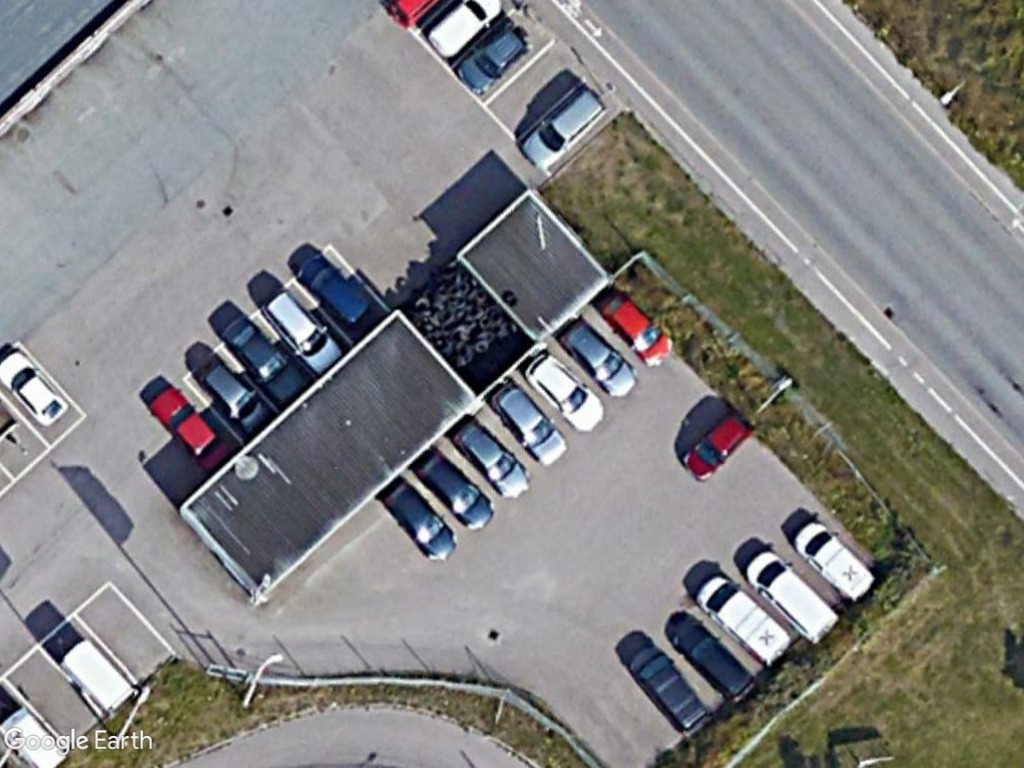car: (145, 382, 234, 477), (222, 318, 313, 409), (413, 443, 500, 535), (488, 378, 572, 473), (291, 250, 383, 336), (519, 83, 606, 172), (523, 347, 608, 438), (260, 288, 344, 375), (451, 416, 535, 501), (384, 479, 462, 566), (596, 289, 677, 370), (194, 357, 277, 436), (563, 317, 642, 400), (681, 408, 758, 484), (452, 23, 529, 98), (0, 348, 73, 427)
van: (745, 547, 845, 650), (691, 571, 791, 669), (669, 615, 760, 703), (794, 518, 880, 604), (627, 645, 711, 733)
